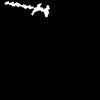double_crochet: (5, 2, 49, 16)
